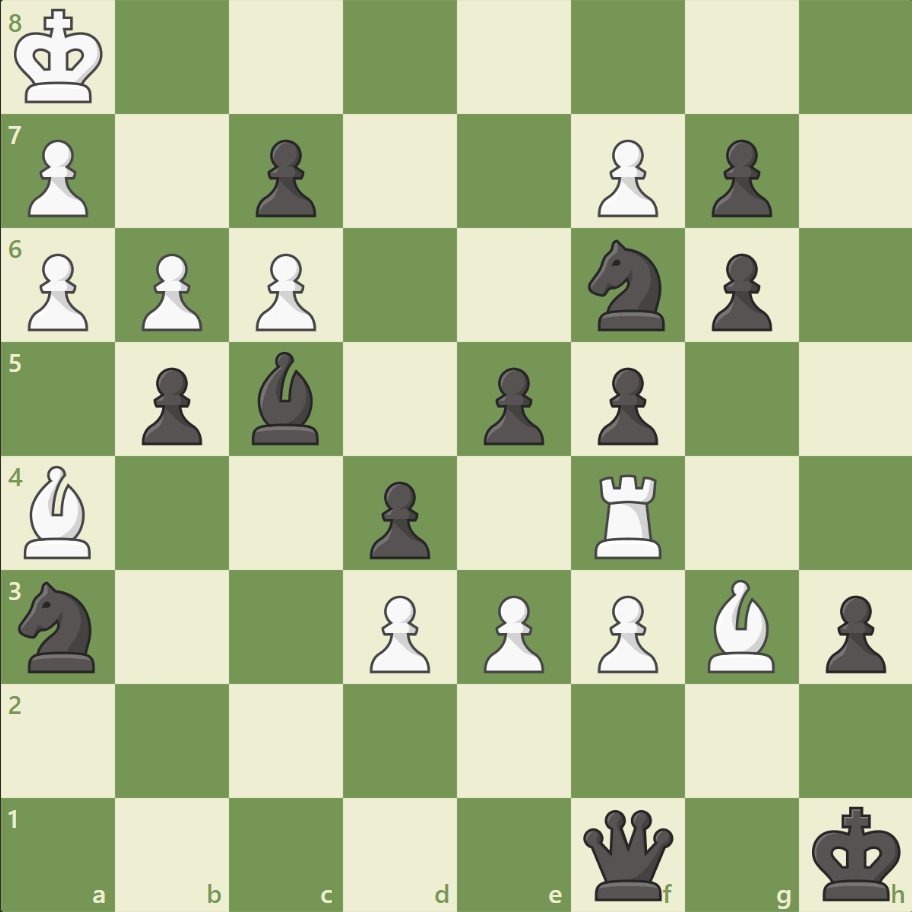B: (17, 460, 101, 563), (698, 574, 782, 676)
K: (11, 4, 111, 112)
P: (20, 132, 95, 223), (20, 246, 95, 337), (133, 246, 208, 337), (247, 246, 322, 337), (474, 586, 549, 677), (588, 132, 662, 223), (361, 586, 435, 677), (588, 586, 662, 677)
R: (587, 466, 670, 563)
b: (244, 347, 328, 449)
k: (806, 798, 906, 906)
n: (579, 234, 676, 337), (11, 575, 108, 677)
p: (247, 132, 322, 223), (701, 132, 776, 223), (701, 246, 776, 337), (133, 359, 208, 450), (474, 359, 549, 450), (588, 359, 662, 450), (361, 473, 435, 564), (815, 586, 889, 677)
q: (578, 804, 677, 903)
